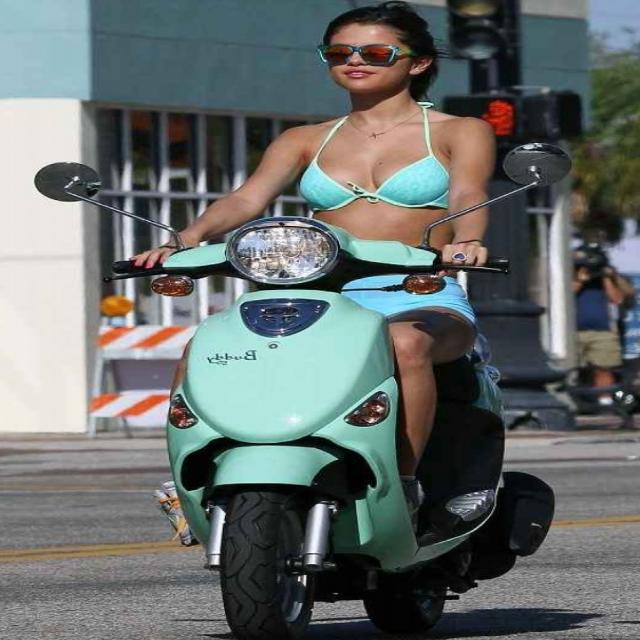Not Wearing Helmet: (203, 0, 491, 124)
